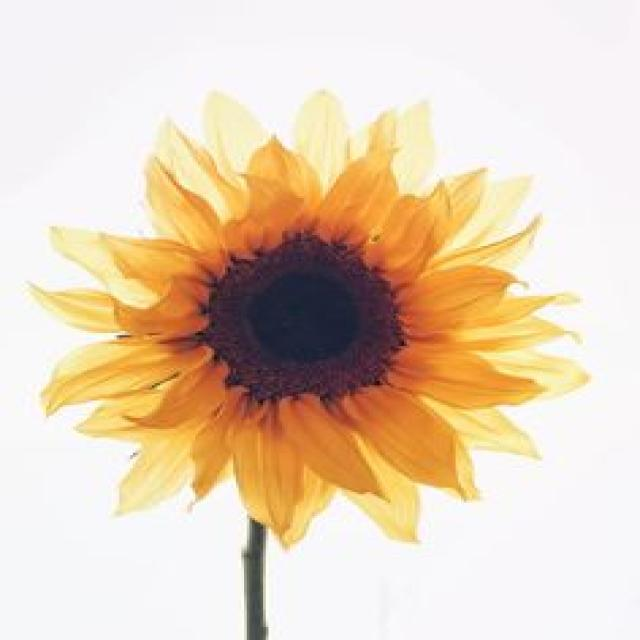sunflower: (22, 75, 599, 552)
